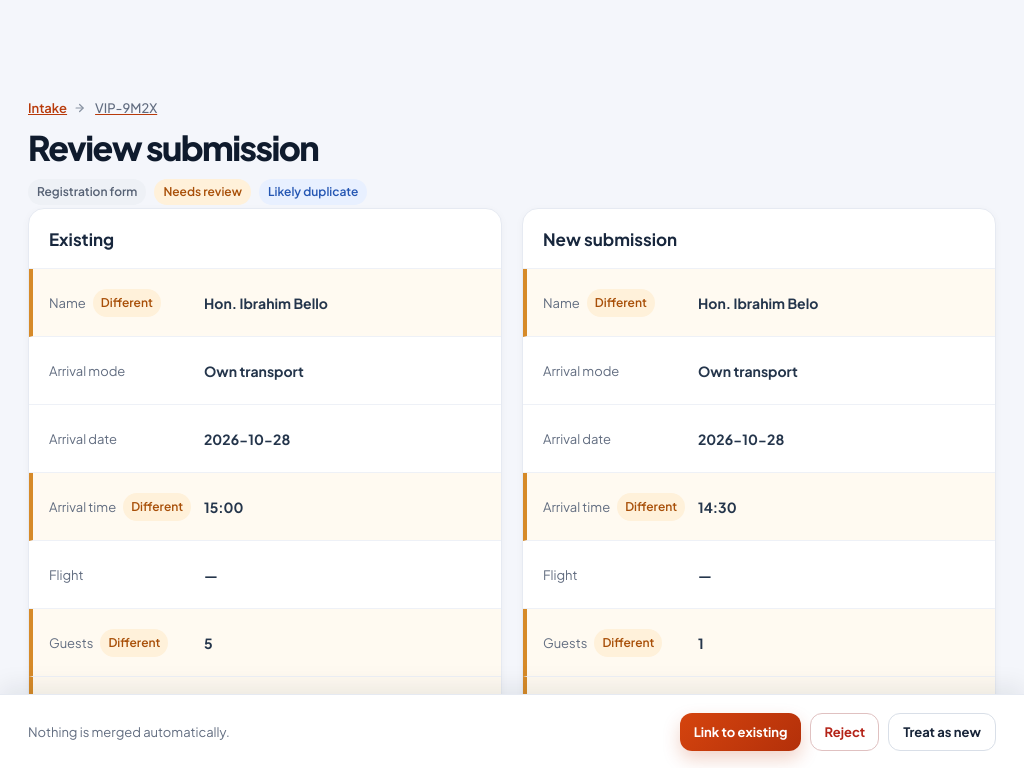
ReviewScreen › compares a likely duplicate side by side and links it
Check: the text "Hon. Ibrahim Belo" is shown, box 698,294 -> 818,312
Check: the text "Different" next to "Hon. Ibrahim Belo" is shown, box 595,294 -> 647,310
Click the button "Link to existing" at (741,732), box 680,712 -> 802,750
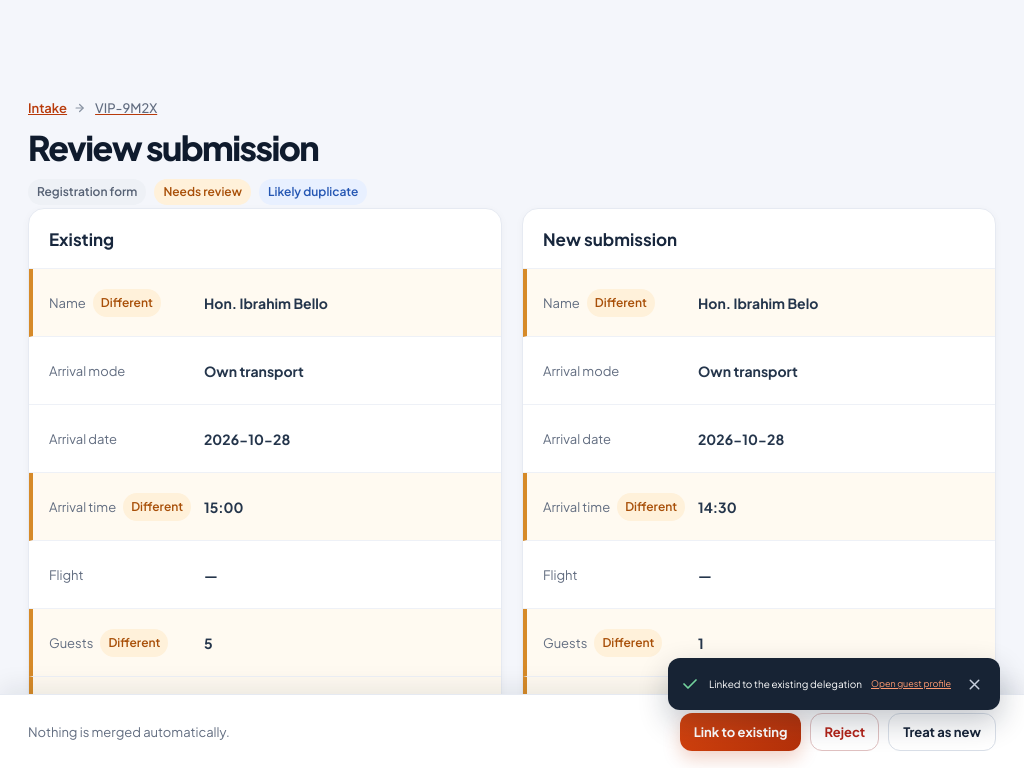
Check: the text "Linked to the existing delegation" is shown, box 709,674 -> 862,694
